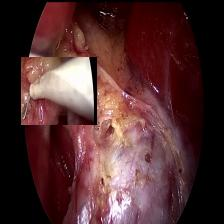Hook: (20, 56, 96, 124)
